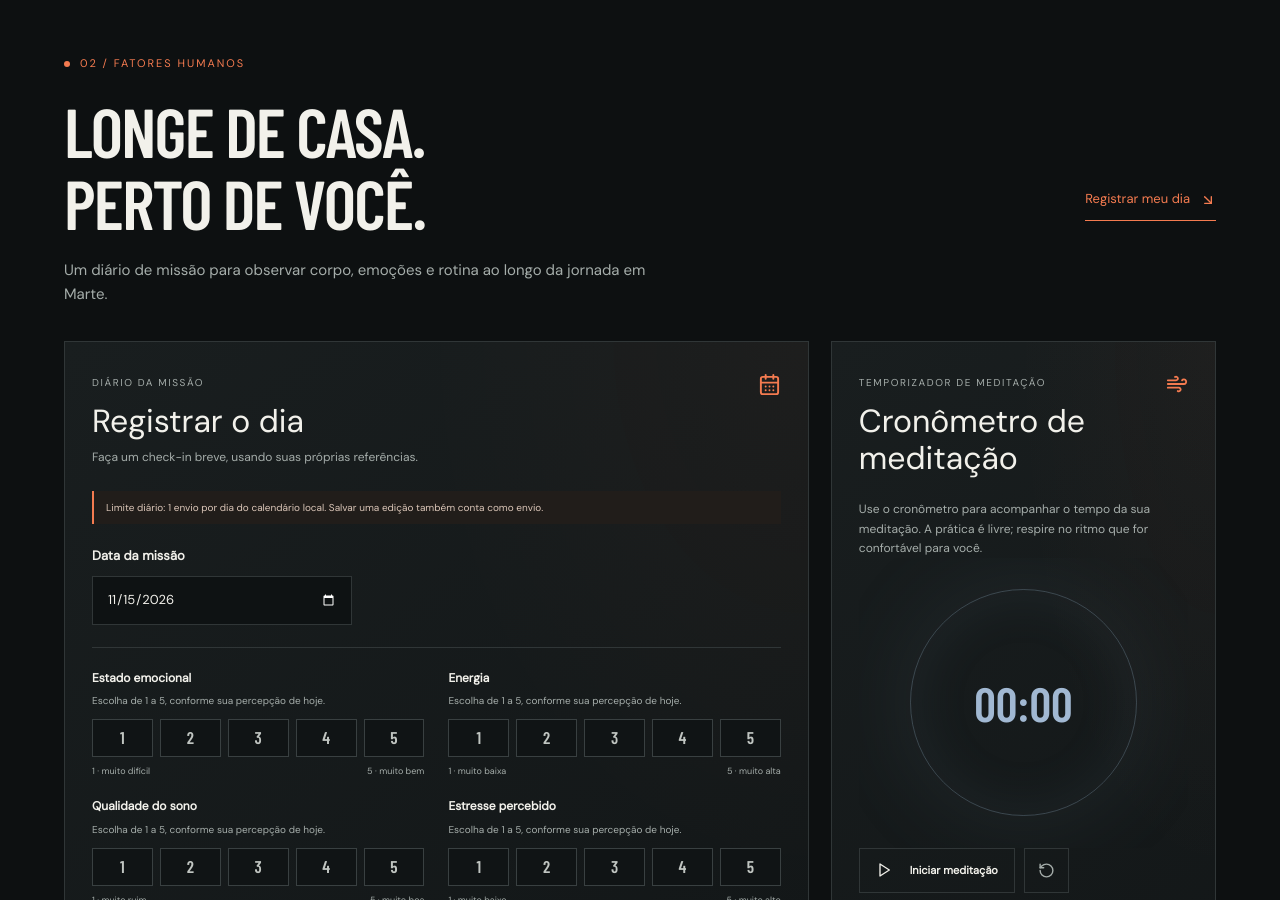
Test: Mind Space › starts, pauses and resets the reflection timer
The image size is (1280, 900).
Step 1. Click the button "Iniciar meditação" → (937, 870), box x1=859 y1=848 x2=1015 y2=893
Wait 3000 ms
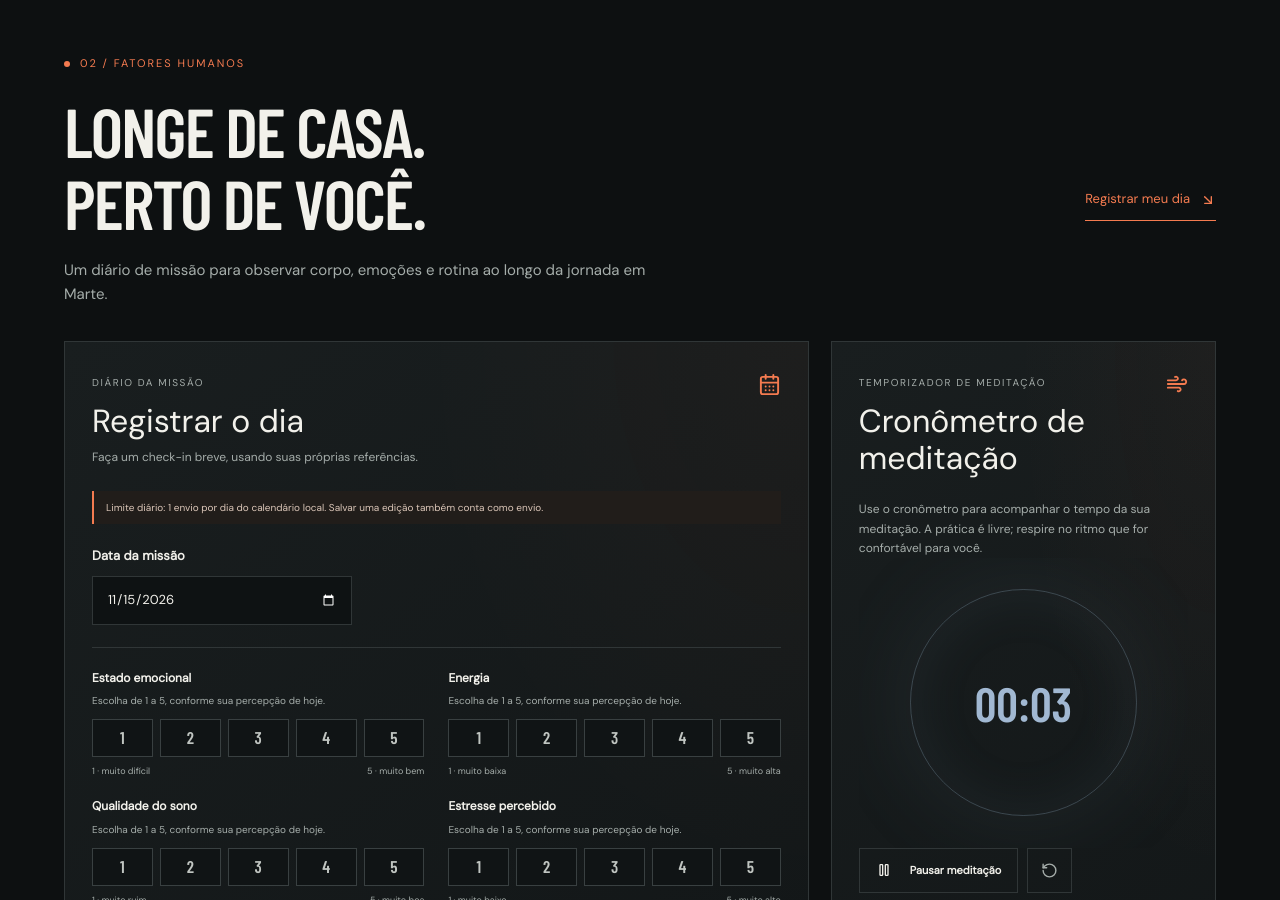
expect the text "00:03" is shown: met, box x1=975 y1=664 x2=1072 y2=741
Step 2. Click the button "Pausar meditação" → (939, 870), box x1=859 y1=848 x2=1018 y2=893
Wait 2000 ms
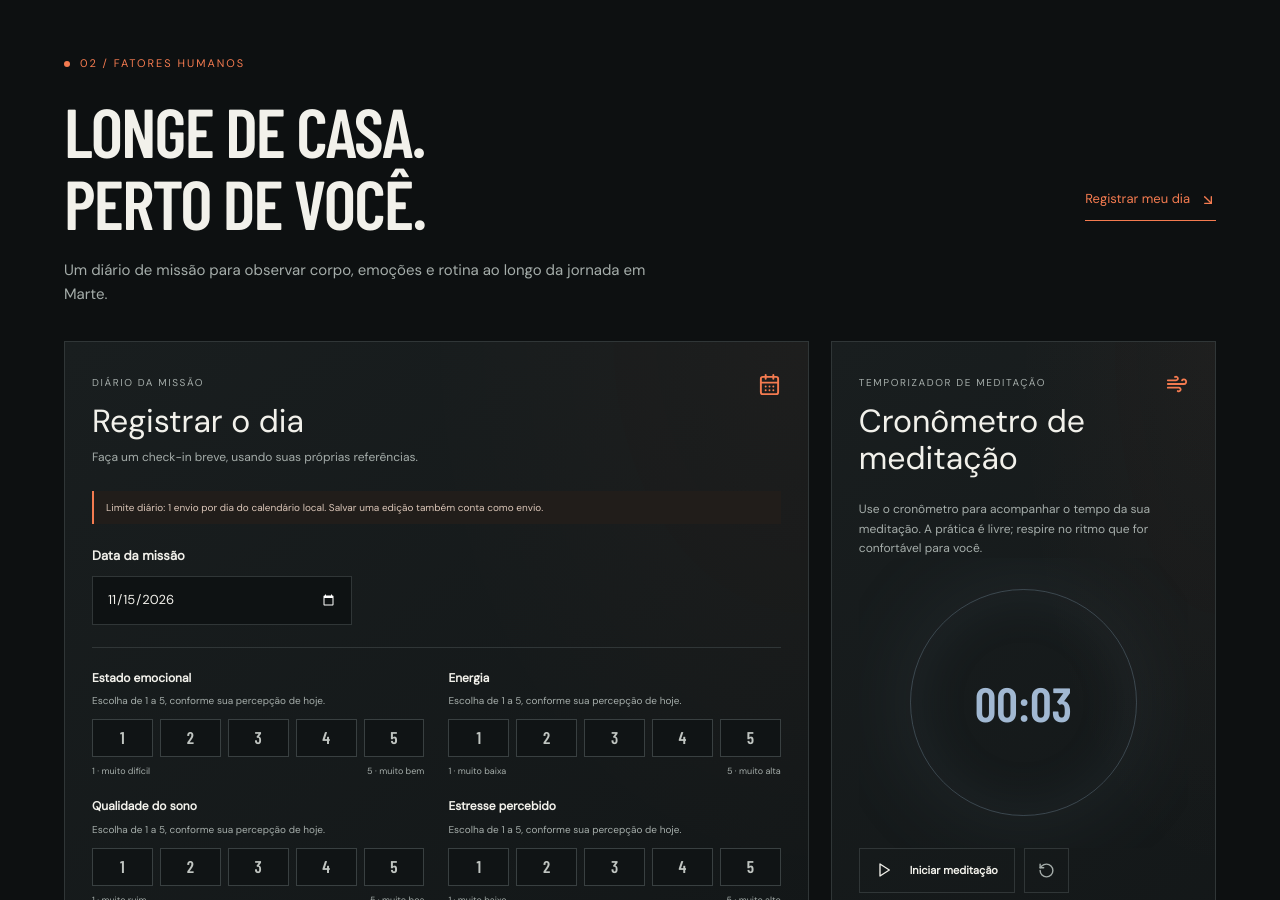
expect the text "00:03" is shown: met, box x1=975 y1=664 x2=1072 y2=741
Step 3. Click the button named "Reiniciar cronômetro de meditação" → (1046, 870), box x1=1024 y1=848 x2=1069 y2=893
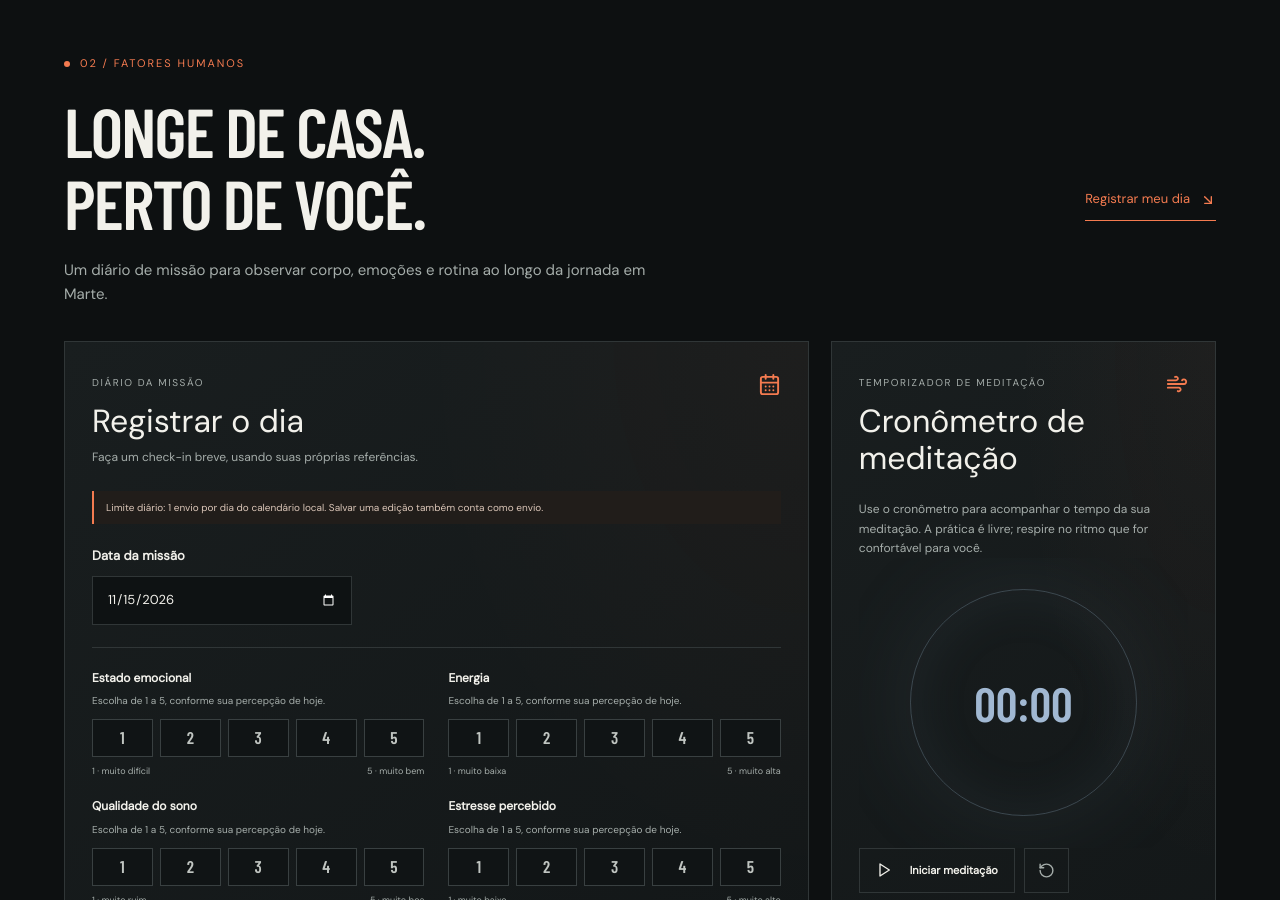
expect the text "00:00" is shown: met, box x1=974 y1=664 x2=1073 y2=741
